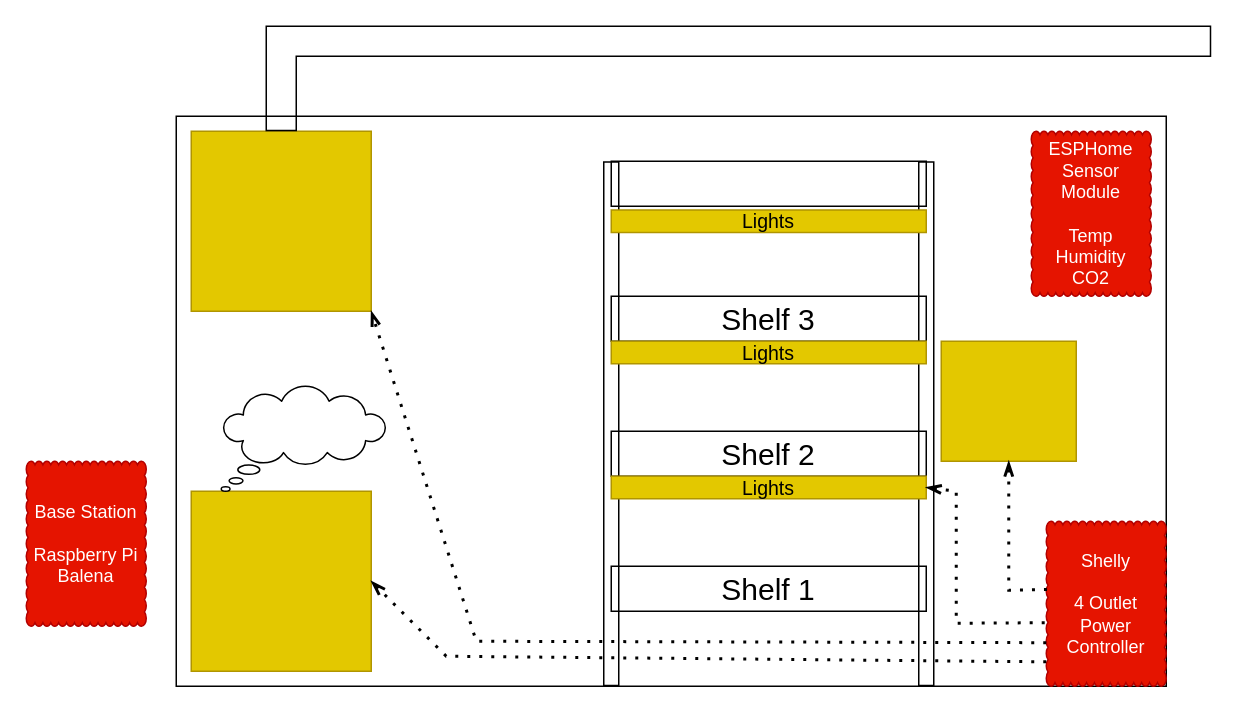
The diagram is 1238 pixels wide and 713 high, and some of its shapes have lost their labels. The box of each missing label's shape, as (x1, y1, x2, y2) in pixels:
Circulation Fan: (940, 340, 1076, 461)
Exhaust Fan: (190, 130, 371, 311)
Humidifier Unit: (190, 490, 371, 671)
Shelf 4: (610, 160, 926, 206)
